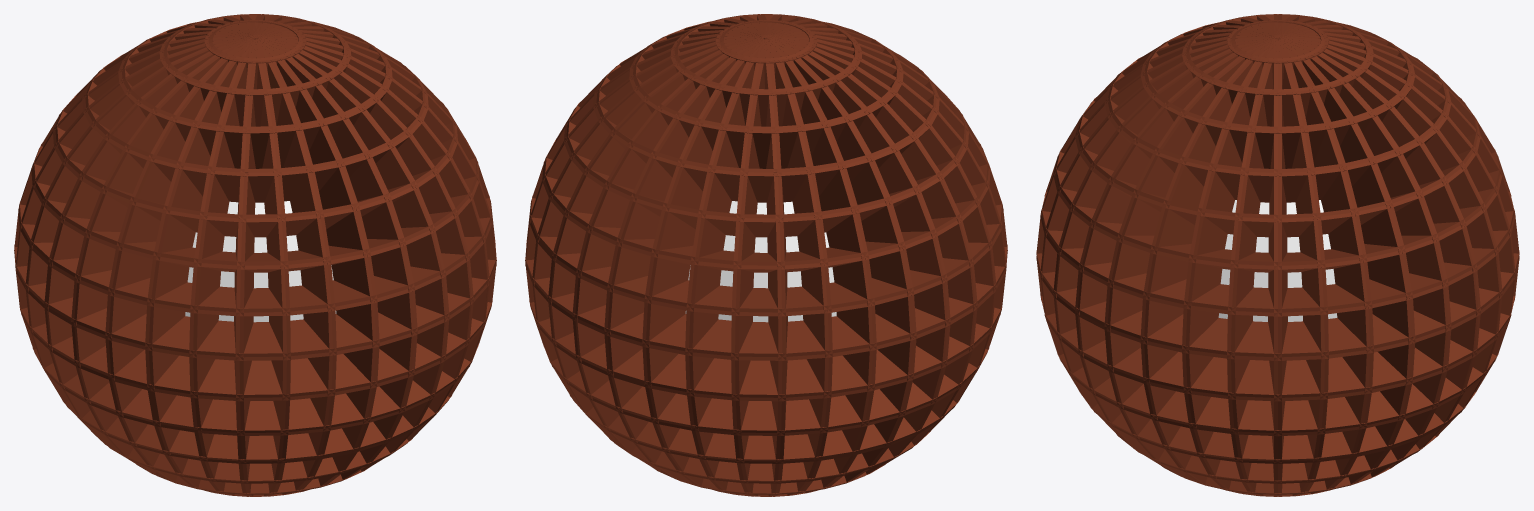
File: jap14.fbx
3 renders of one model, left to right at view 1: azimuth 30°, elevation 25°; view 2: azimuth 150°, elevation 25°; view 3: azimuth 270°, elevation 25°, orthographic.
Visible parts, largest first — view 1: Sphere; view 2: Sphere; view 3: Sphere.
Part boxes in pixels (x1,y1,x2,y2): Sphere: (14,14,496,496); Sphere: (525,14,1007,496); Sphere: (1036,14,1519,496).
Size of the model in its own units: 304 by 304 by 304.
